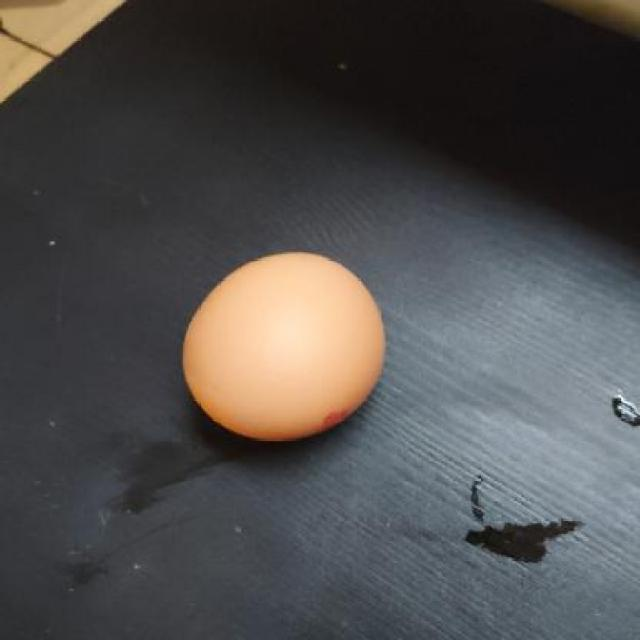biodegradable: (180, 249, 388, 443)
